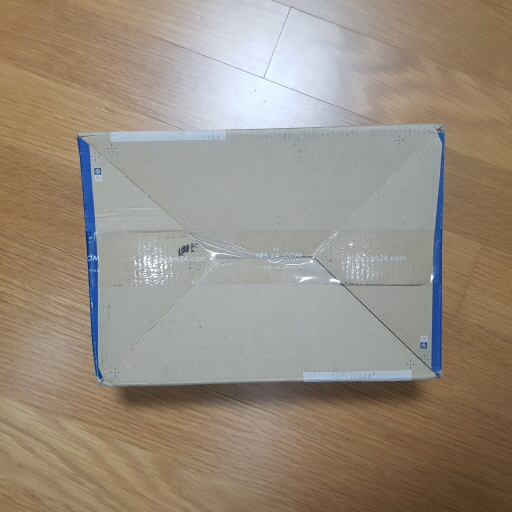Paper_0: (71, 121, 453, 386)
